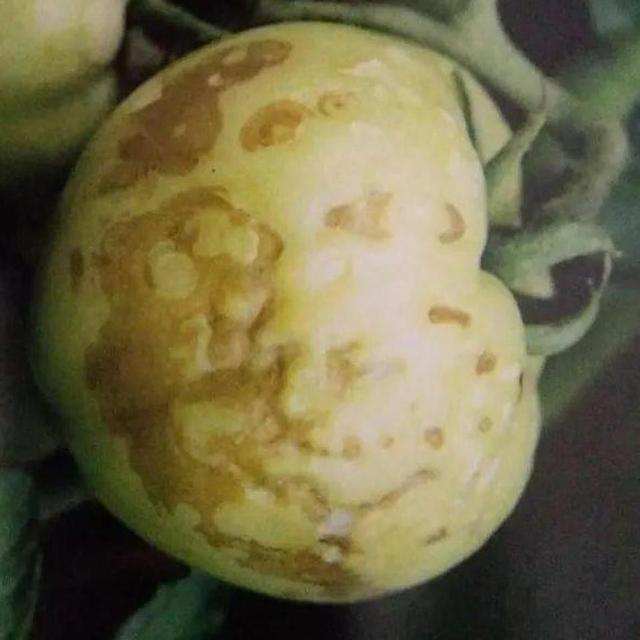Spotted wilt Virus Fruit: (23, 13, 368, 403)
